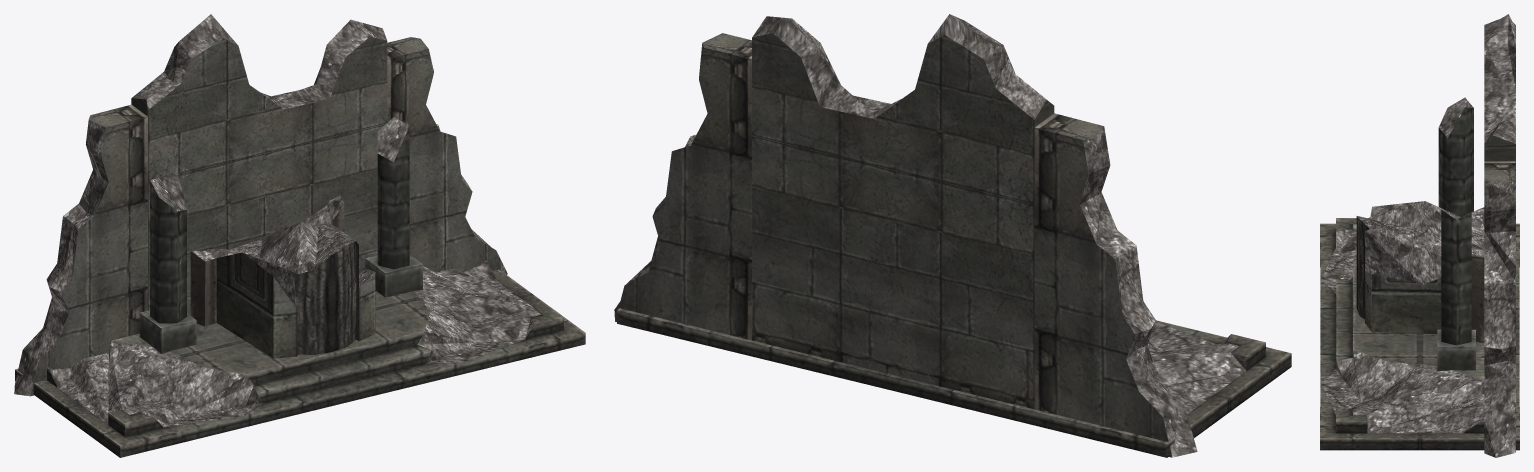
The picture shows the model from 3 angles, left to right: view 1: azimuth 30°, elevation 25°; view 2: azimuth 150°, elevation 25°; view 3: azimuth 270°, elevation 25°; orthographic projection. The views are drawn at different scales.
Visible parts, largest first — view 1: object92; view 2: object92; view 3: object92.
Boxes of the visible parts, x1,y1,x2,y2 form: object92: (14, 14, 585, 457); object92: (614, 14, 1291, 457); object92: (1320, 14, 1519, 457).
Bounding box in the file's own units: 830 × 523 × 306.
